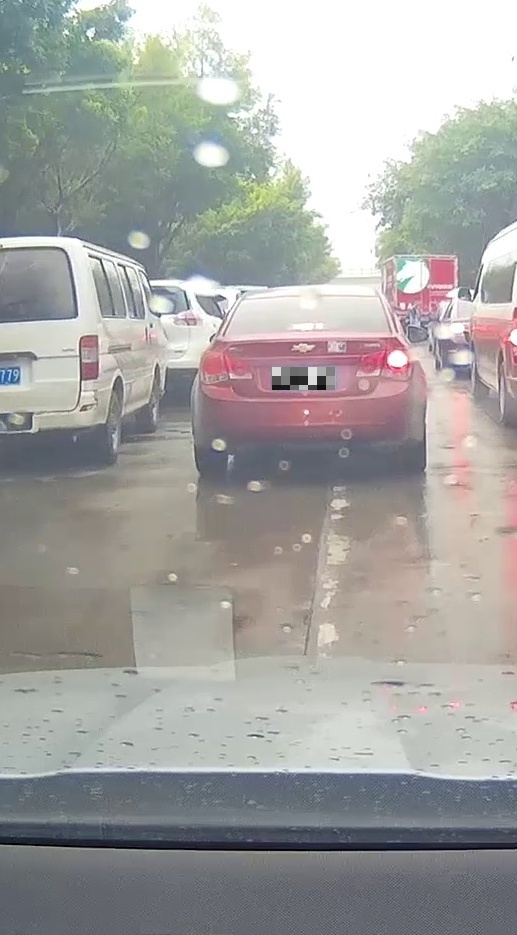L_light: (197, 350, 254, 385)
R_light: (356, 347, 413, 380)
T_light: (289, 323, 322, 330)
day-brake: (191, 286, 425, 475)
plate_1: (272, 367, 335, 390)
